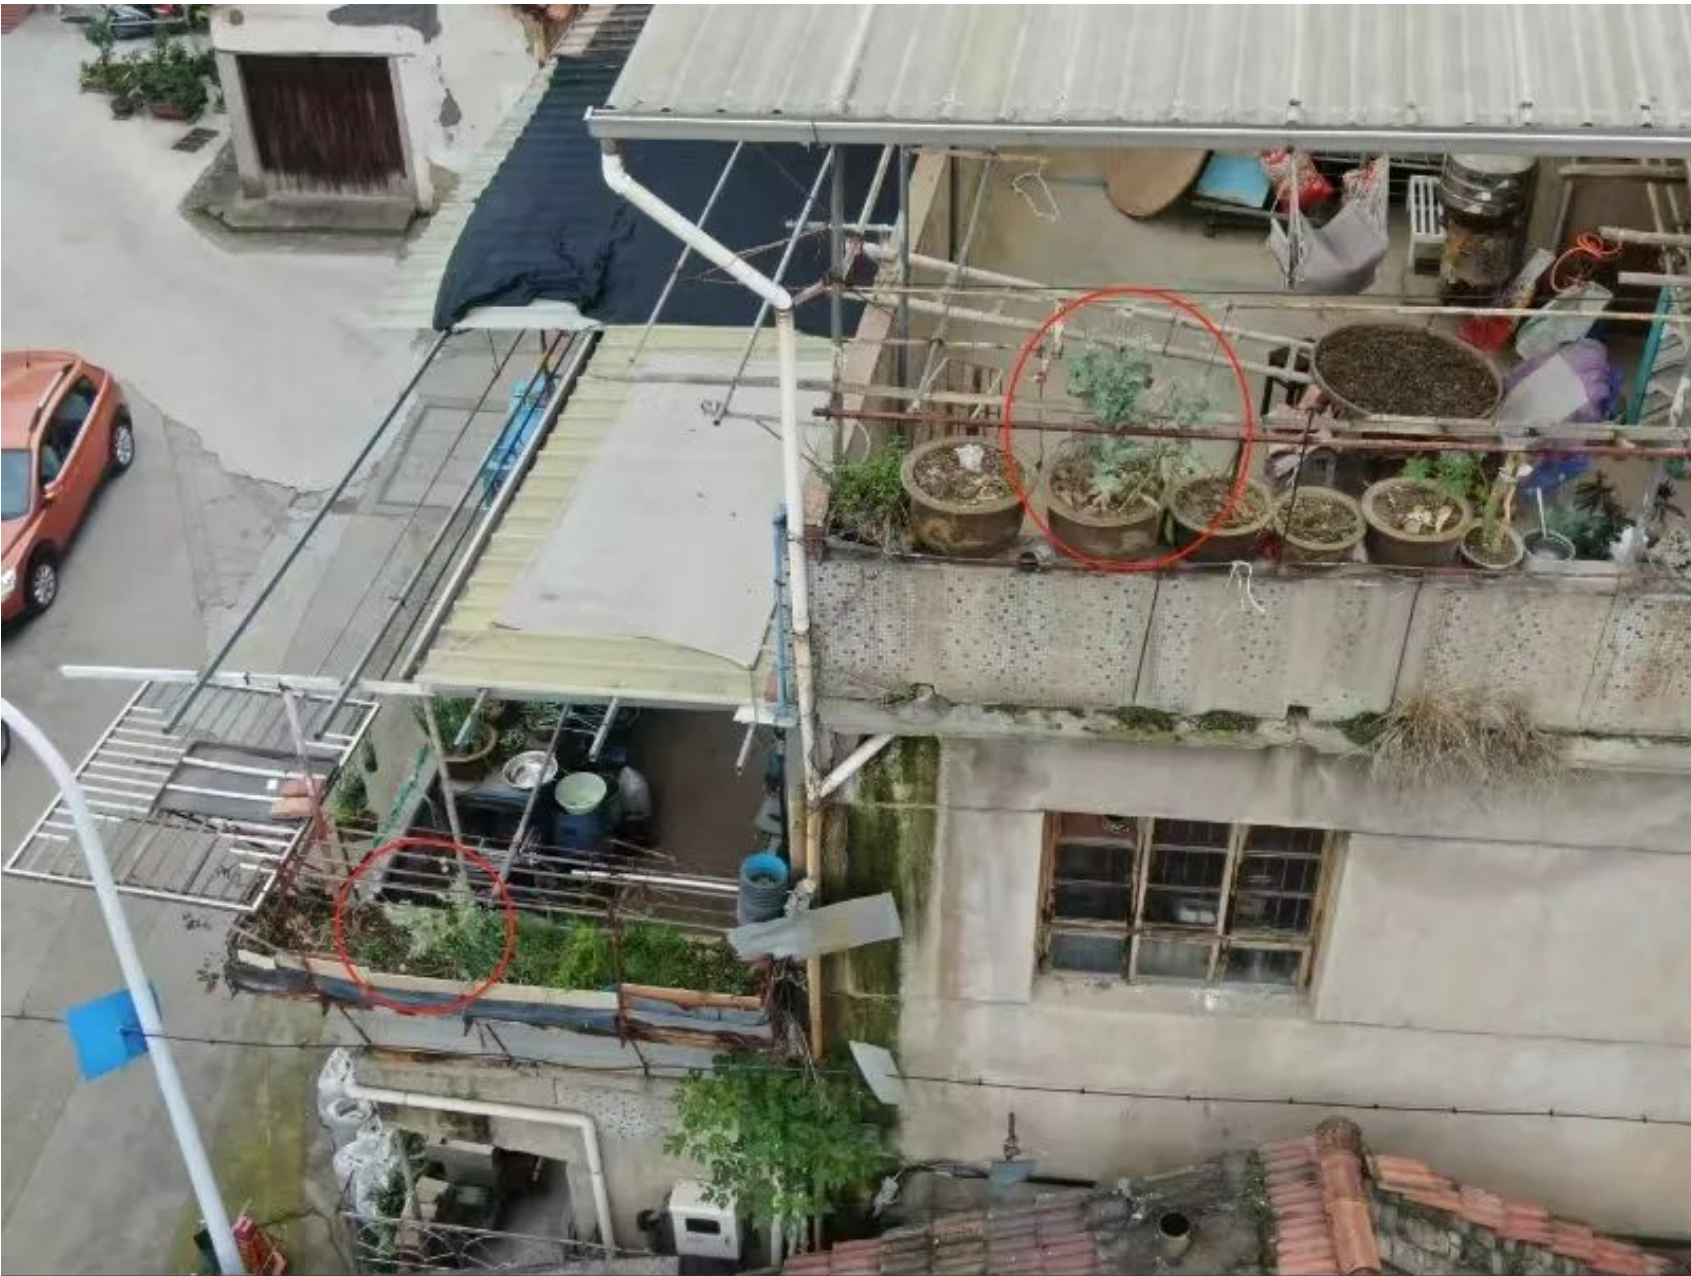Poppy: (1038, 318, 1206, 543)
